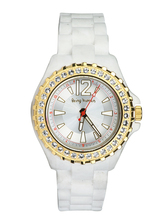watch: (27, 10, 146, 214)
